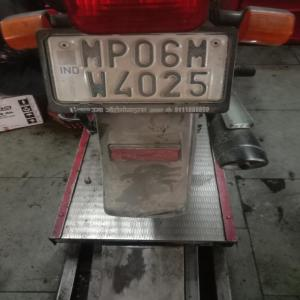Plate: (46, 33, 228, 103)
